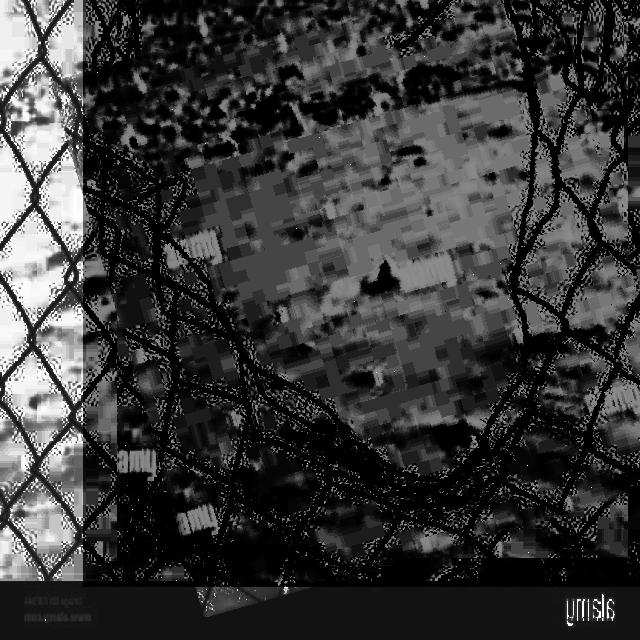anomaly-fence: (83, 0, 640, 587)
